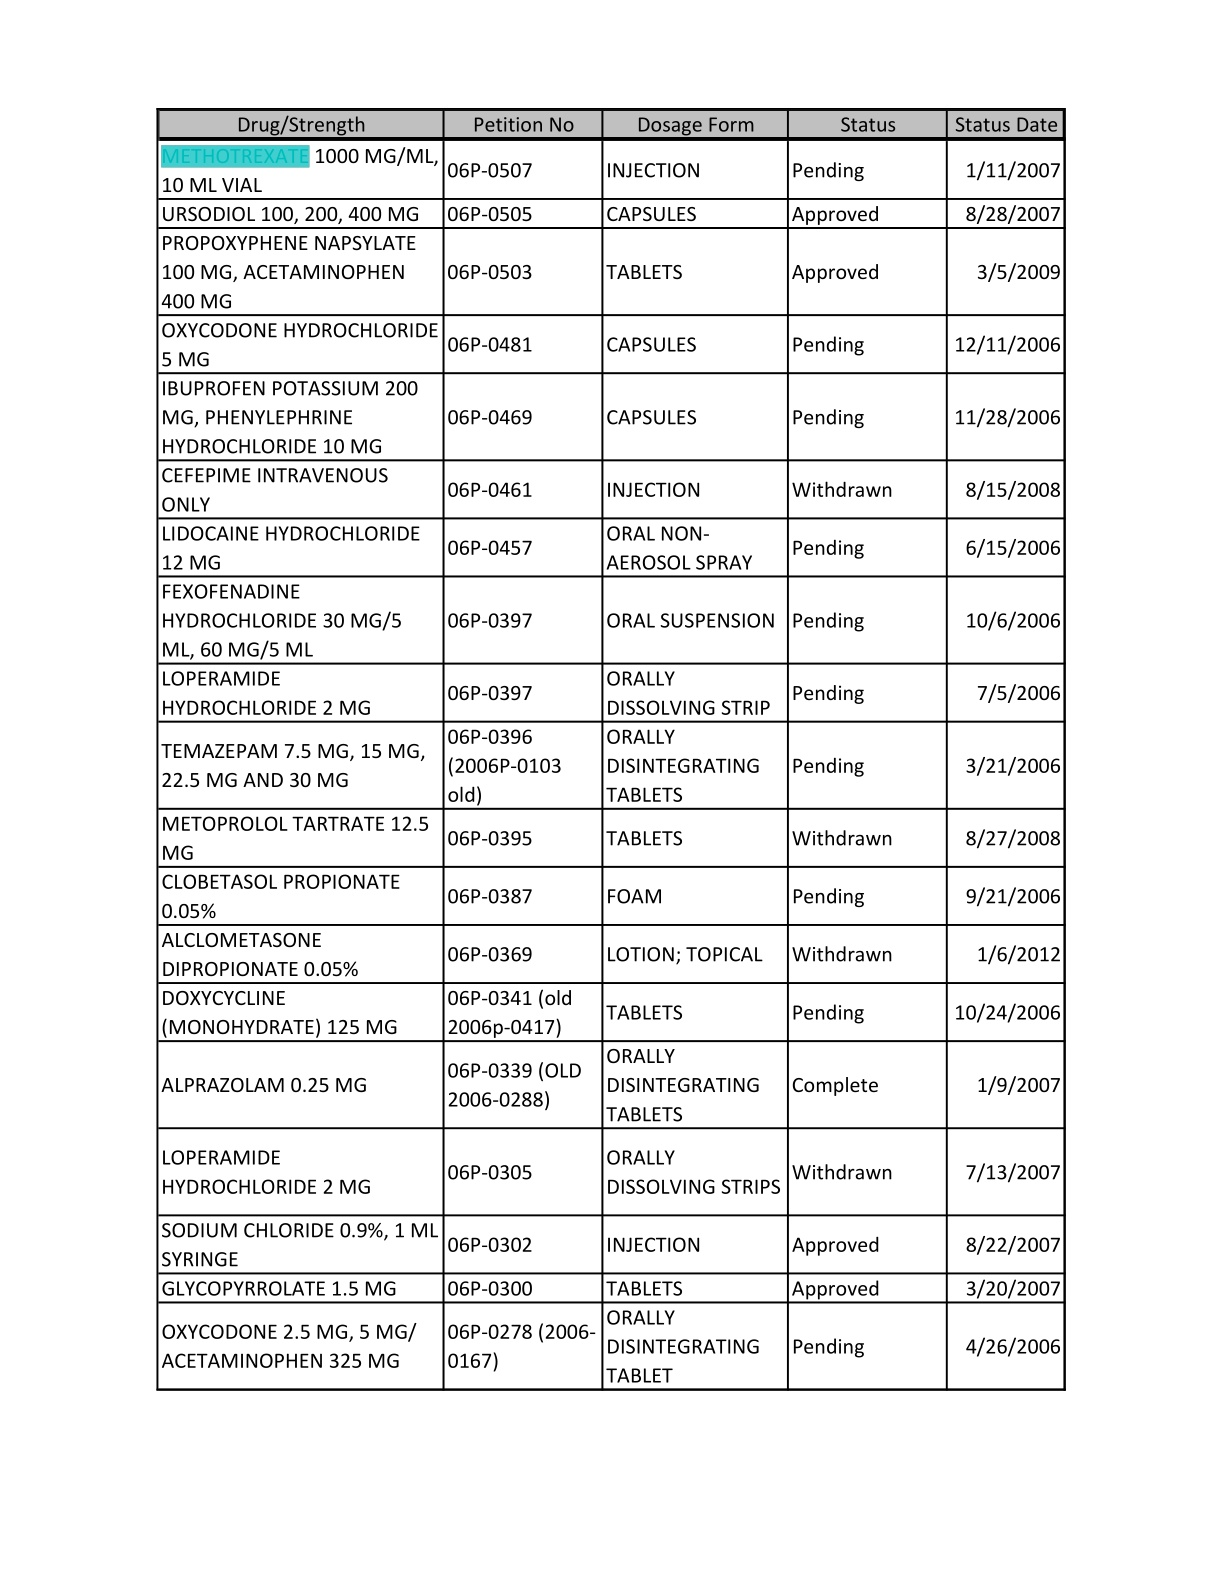full_lined: (156, 107, 1066, 1391)
